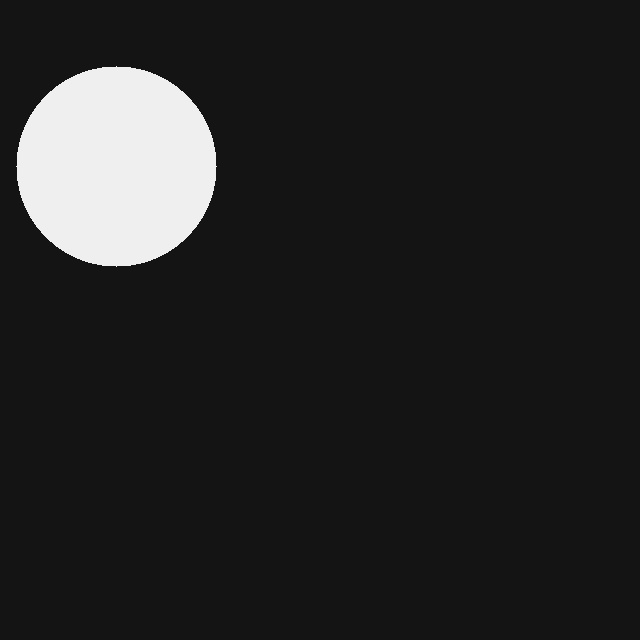circle: (16, 66, 216, 266)
